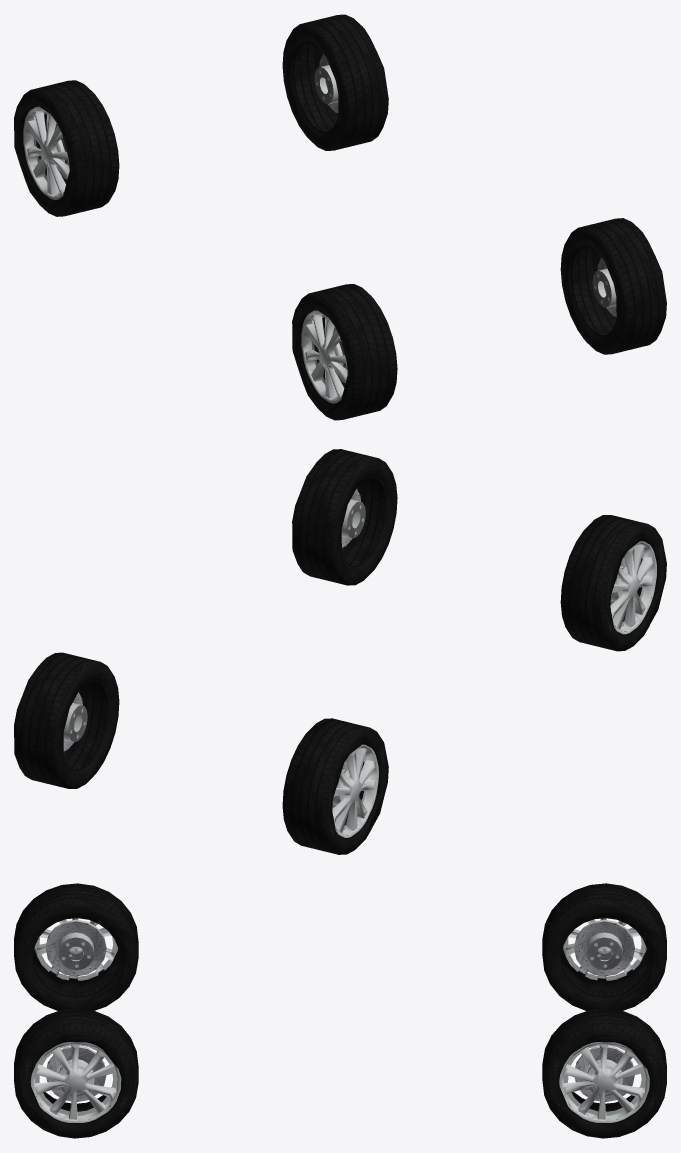
The model's file is car_sedan_lo.glb.
3 renders of one model, top to bottom at view 1: azimuth 30°, elevation 25°; view 2: azimuth 150°, elevation 25°; view 3: azimuth 270°, elevation 25°, orthographic. The views are drawn at different scales.
Visible parts, largest first — view 1: WheelFrontL, WheelRearL, WheelFrontR, WheelRearR; view 2: WheelFrontL, WheelFrontR, WheelRearL, WheelRearR; view 3: WheelRearL, WheelFrontL, WheelRearR, WheelFrontR.
Boxes of the visible parts, left/top/right/bottom form: WheelFrontL: left=560, top=218, right=666, bottom=354; WheelRearL: left=282, top=14, right=388, bottom=150; WheelFrontR: left=292, top=284, right=397, bottom=420; WheelRearR: left=14, top=80, right=119, bottom=216; WheelFrontL: left=292, top=449, right=397, bottom=585; WheelFrontR: left=560, top=515, right=666, bottom=651; WheelRearL: left=14, top=652, right=119, bottom=788; WheelRearR: left=282, top=718, right=388, bottom=854; WheelRearL: left=542, top=1008, right=666, bottom=1138; WheelFrontL: left=14, top=1008, right=138, bottom=1138; WheelRearR: left=542, top=883, right=666, bottom=1010; WheelFrontR: left=14, top=883, right=138, bottom=1010.
Size of what is drawn, in the model's own units: 1.89 by 0.6872 by 3.6.
Materials: 3 (2 with a texture image).
